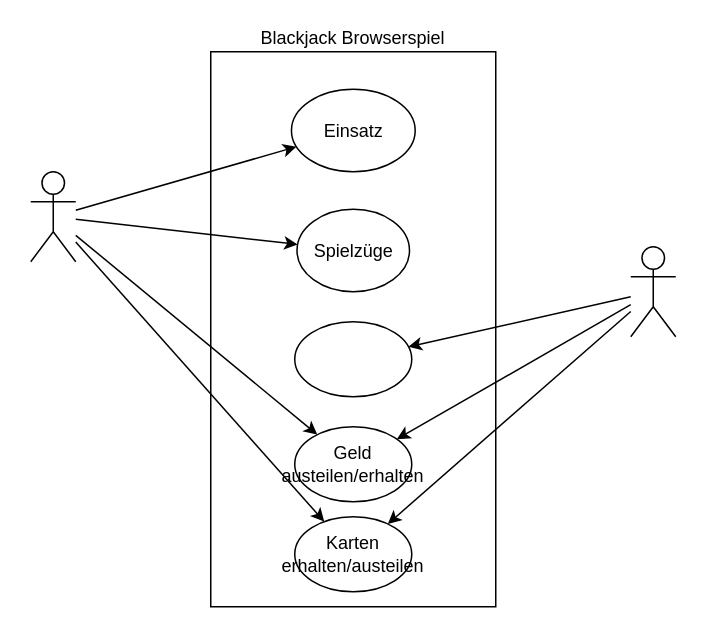
This 705x633 diagram has some shape labels left out. Each missing label, with the centre of its shape:
Dealer: the point at 652,291
Ergebnis berechnen: the point at 352,358
Spieler: the point at 52,216
